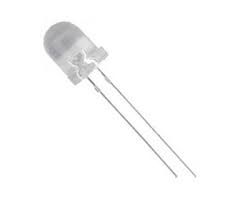LED: (38, 17, 200, 184)
